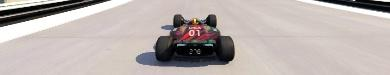Car: (154, 13, 235, 62)
